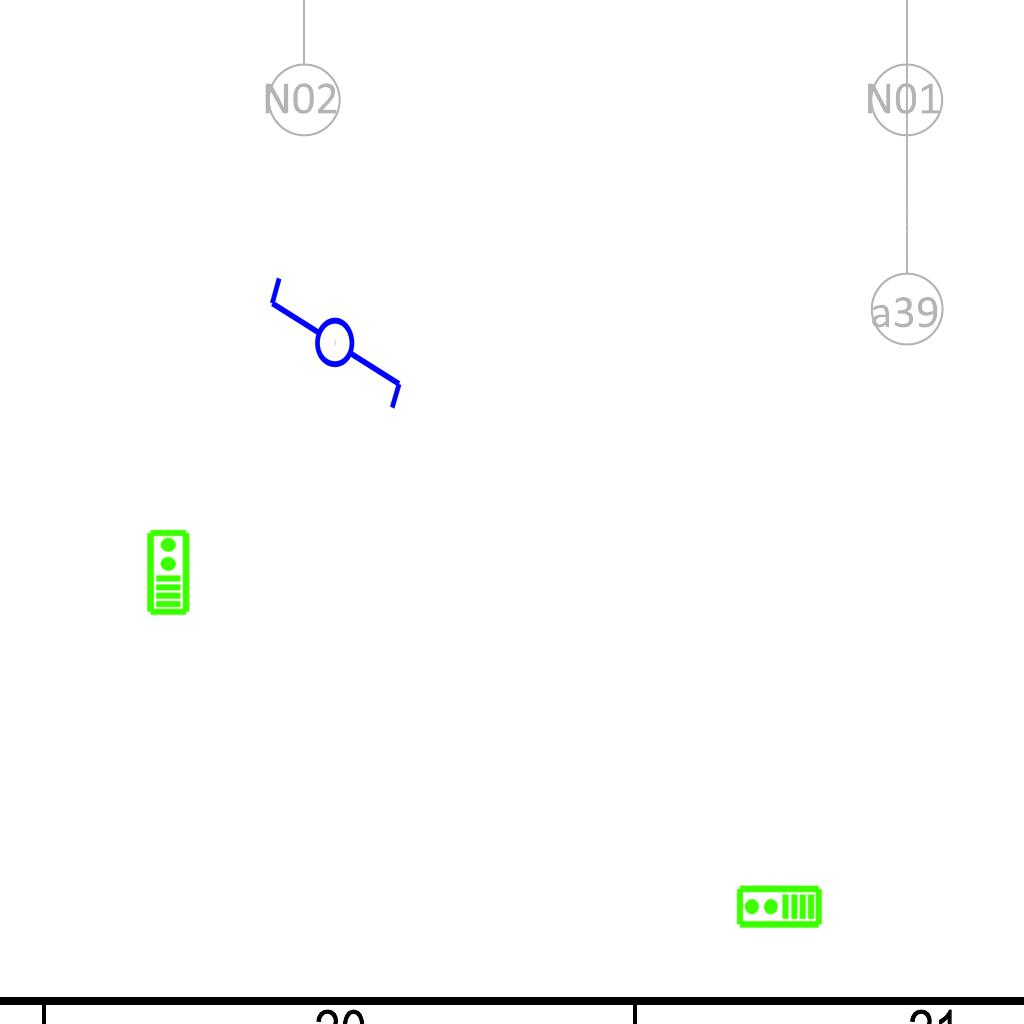Gegensprechanlage_mit_Video: (144, 528, 191, 616), (735, 884, 823, 931)
Wechselschalter: (265, 256, 409, 413)
